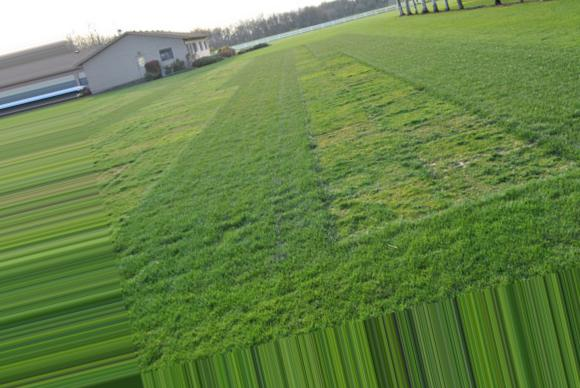patch: (317, 128, 374, 160), (432, 153, 482, 180), (118, 137, 151, 161)
